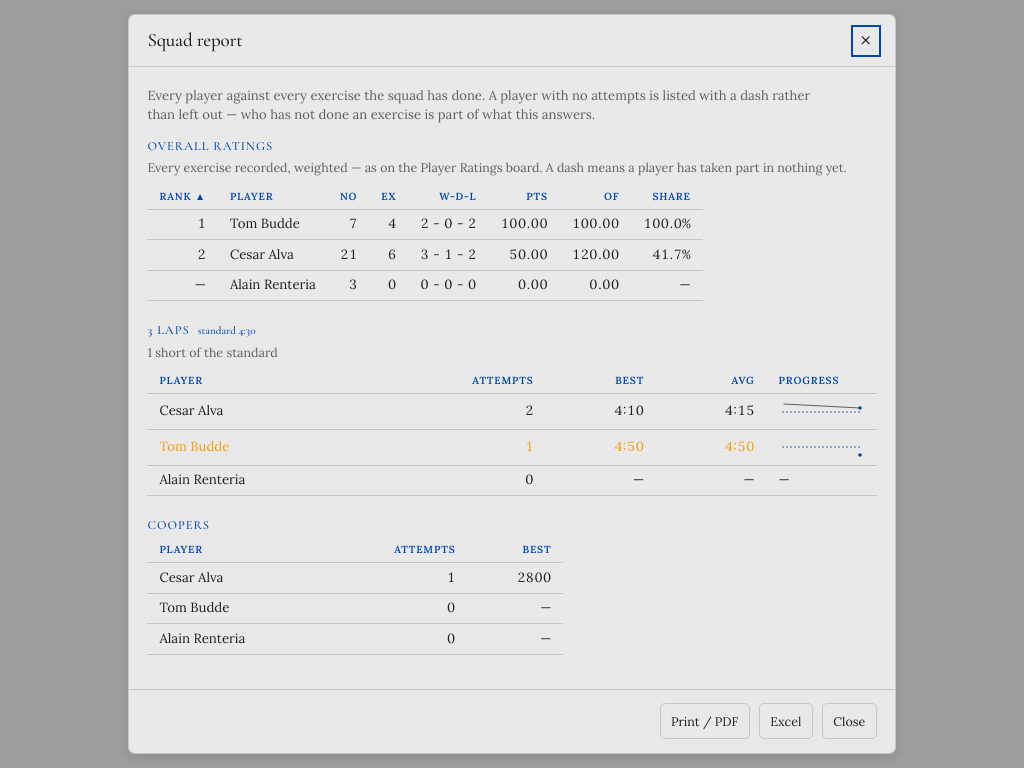
Test: the overall ratings › marks the column it is sorted by
This screenshot has width=1024, height=768.
Step 1. Click the button "Pts" → (537, 196), box [526,188,548,204]
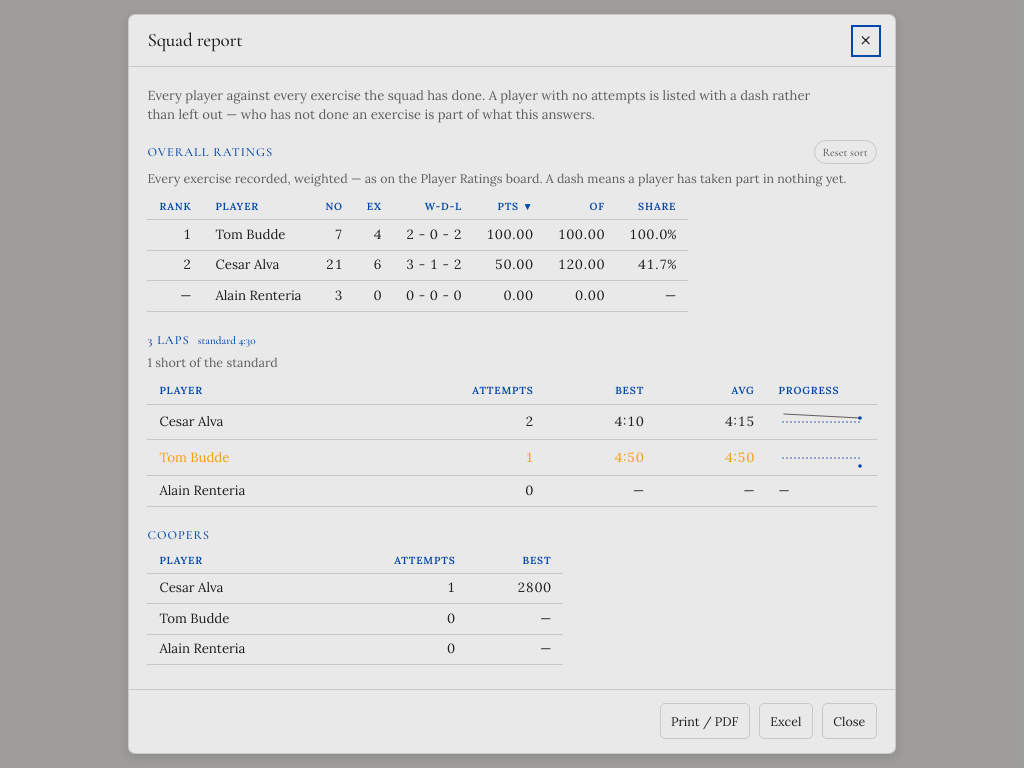
Expected: the button "Pts ▼" is shown, [497,199,533,215]
